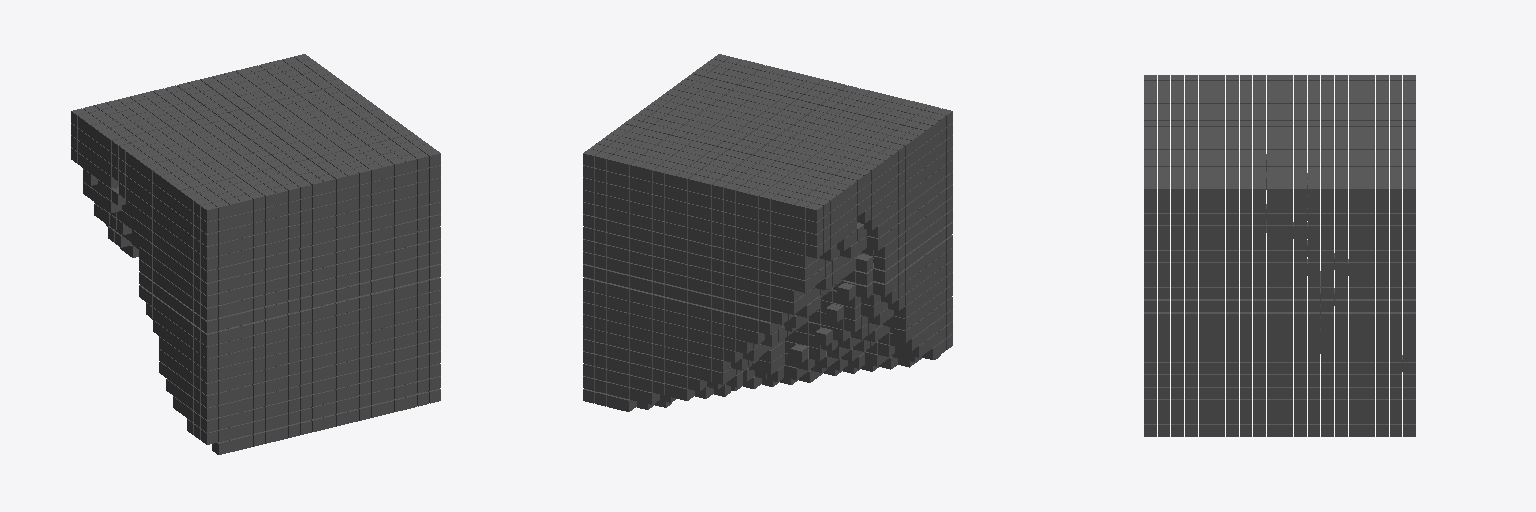
Rendered from BigCube_ErrodedTriangulate.obj.
3 renders of one model, left to right at view 1: azimuth 30°, elevation 25°; view 2: azimuth 150°, elevation 25°; view 3: azimuth 270°, elevation 25°, orthographic.
Bounding box in the file's own units: 6.03 × 6.1 × 6.07.